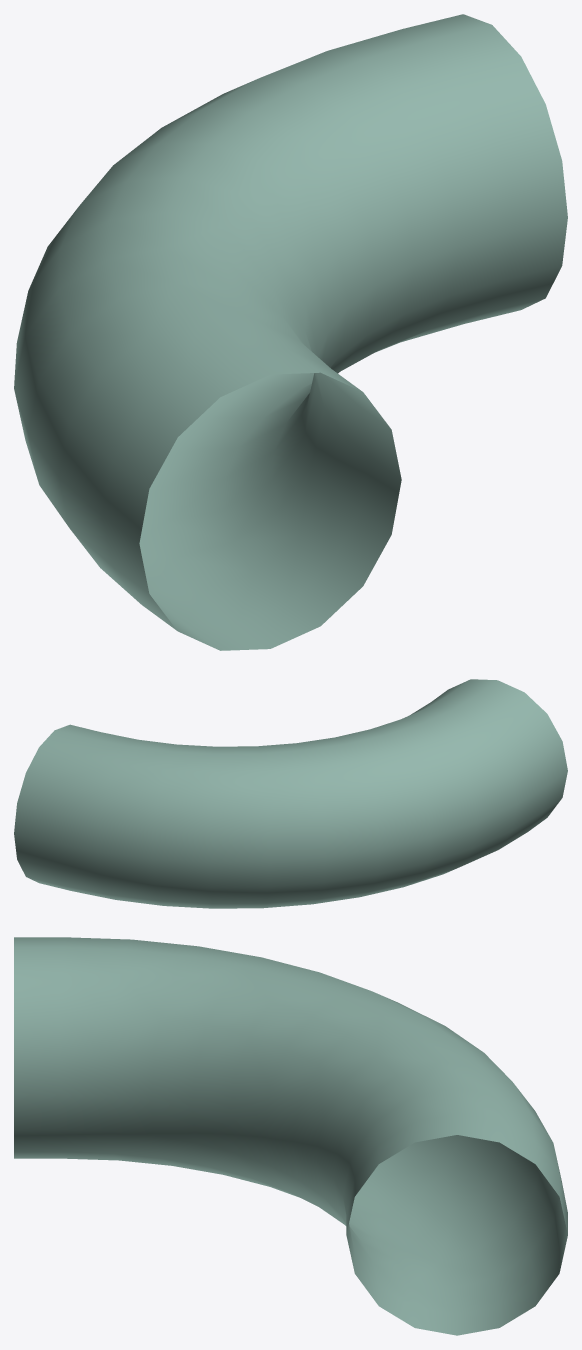
Rendered from PipeLarge_Bent_02.fbx.
The picture shows the model from 3 angles, top to bottom: view 1: azimuth 30°, elevation 25°; view 2: azimuth 150°, elevation 25°; view 3: azimuth 270°, elevation 25°; orthographic projection. The views are drawn at different scales.
Parts seen in each view (by area): view 1: PipeLarge_Bent_02.001; view 2: PipeLarge_Bent_02.001; view 3: PipeLarge_Bent_02.001.
Part boxes in pixels (left/top/right/bottom): PipeLarge_Bent_02.001: left=14, top=14, right=567, bottom=650; PipeLarge_Bent_02.001: left=14, top=679, right=567, bottom=908; PipeLarge_Bent_02.001: left=14, top=937, right=567, bottom=1335.
Bounding box in the file's own units: 0.5 × 0.2 × 0.5.
